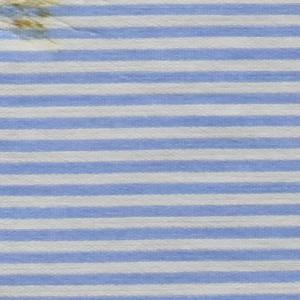Damage: (1, 1, 105, 50)
Oil Stain: (10, 1, 64, 41)
